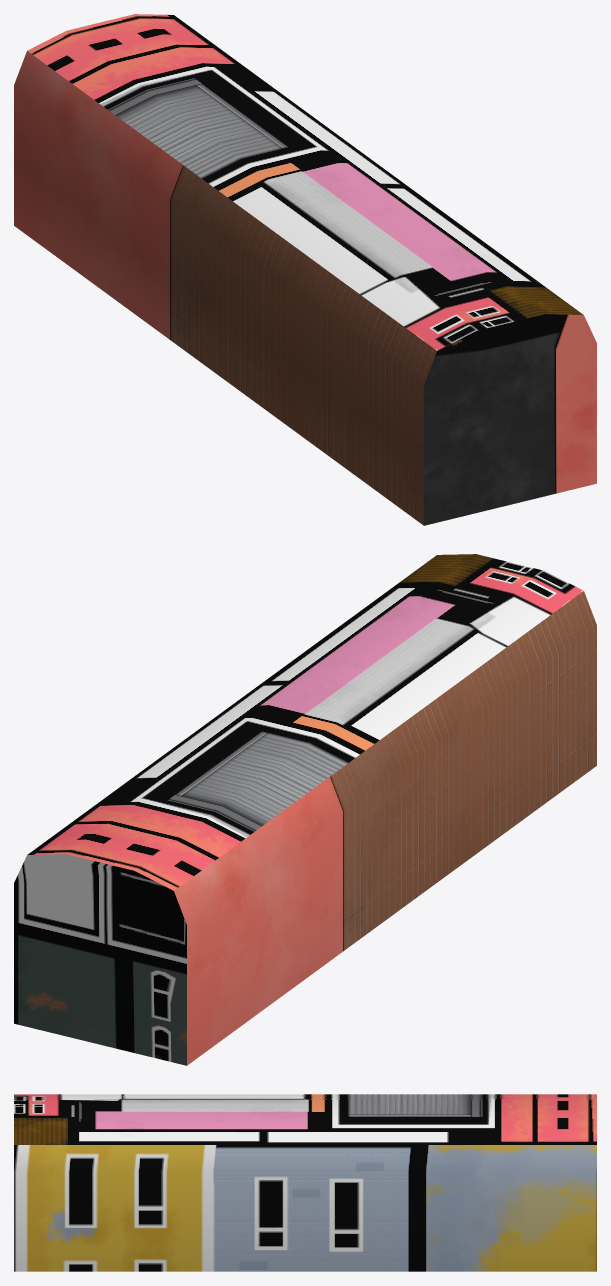
File: Train_01.FBX
The picture shows the model from 3 angles, top to bottom: view 1: azimuth 30°, elevation 25°; view 2: azimuth 150°, elevation 25°; view 3: azimuth 270°, elevation 25°; orthographic projection. The views are drawn at different scales.
Visible parts, largest first — view 1: Box068; view 2: Box068; view 3: Box068.
Boxes of the visible parts, <box> form: Box068: <box>14,14,596,525</box>; Box068: <box>14,554,596,1065</box>; Box068: <box>14,1094,596,1271</box>.
Bounding box in the file's own units: 74.26 × 74.75 × 305.
